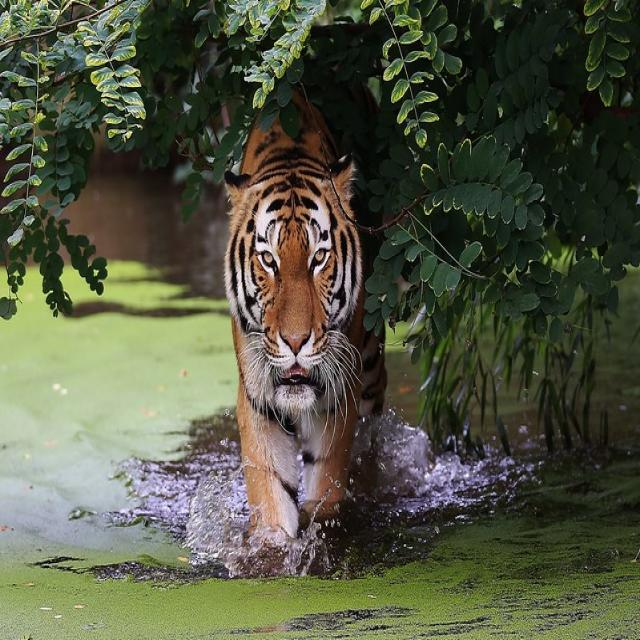Tiger: (225, 75, 384, 548)
